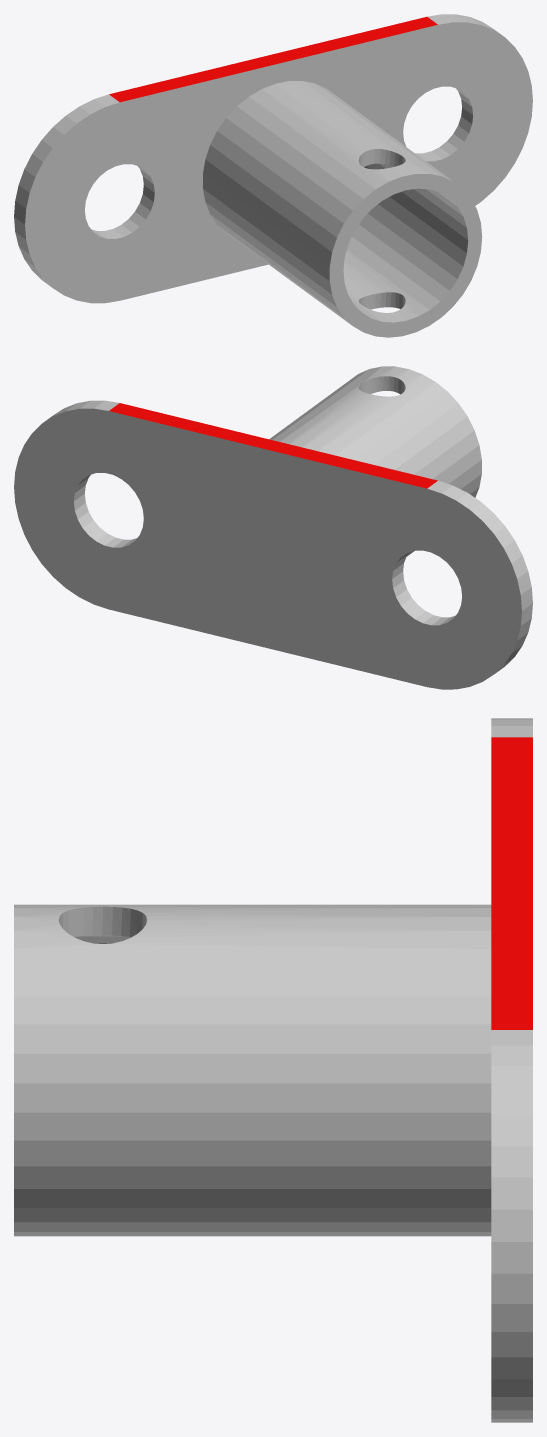
Rendered from Encaixe_coluna_stp_4.obj.
The picture shows the model from 3 angles, top to bottom: view 1: azimuth 30°, elevation 25°; view 2: azimuth 150°, elevation 25°; view 3: azimuth 270°, elevation 25°; orthographic projection. The views are drawn at different scales.
Visible parts, largest first — view 1: Object1; view 2: Object1; view 3: Object1.
Part boxes in pixels (box(x1,y1,x2,y2)): Object1: box(14, 14, 532, 337); Object1: box(14, 366, 532, 689); Object1: box(14, 718, 532, 1422).
Size of the model in its own units: 79.79 by 29.79 by 37.5.
